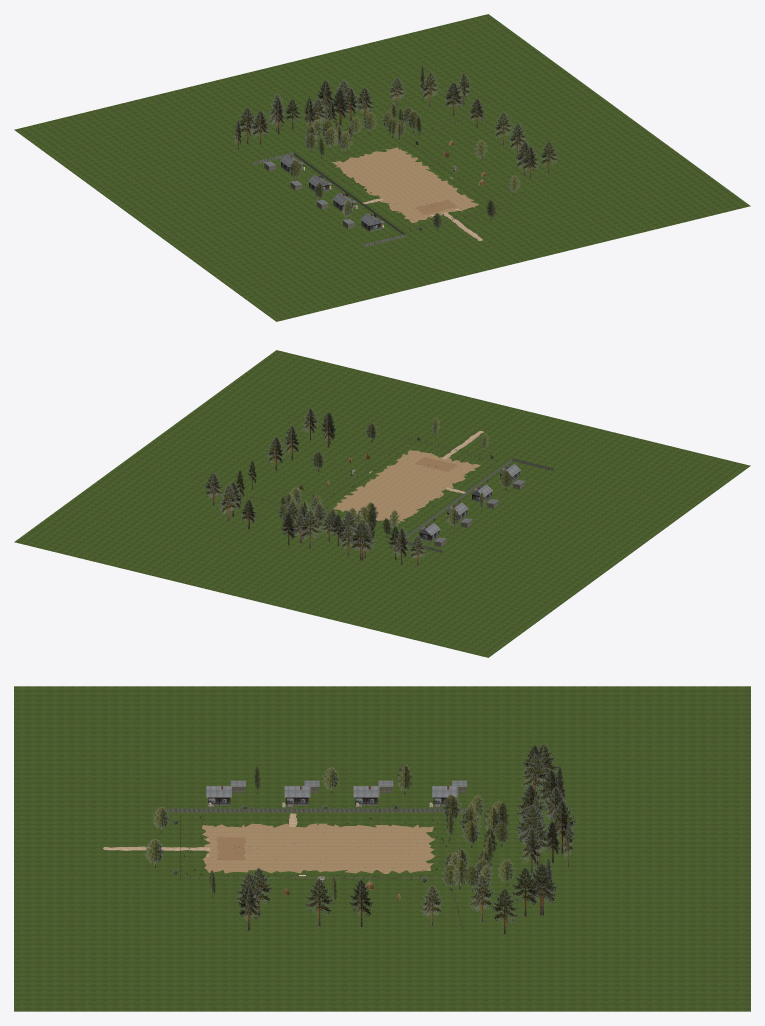
File: village.gltf
3 views of the same model, one above another, from view 1: azimuth 30°, elevation 25°; view 2: azimuth 150°, elevation 25°; view 3: azimuth 270°, elevation 25° (orthographic). The views are drawn at different scales.
Parts seen in each view (by area): view 1: ground, court; view 2: ground, court; view 3: ground, court, cutout-picket0, cutout-pine15-0, cutout-pineR7-0, clay-dom, cutout-pineR0-1, cutout-pine13-0, cutout-pine16-1, cutout-pine17-1, cutout-pine13-1, cutout-pineR6-0 (+1 smaller).
Boxes of the visible parts, x1,y1,x2,y2 form: ground: (14,14,750,321); court: (331,147,478,222); ground: (14,350,750,657); court: (333,450,480,523); ground: (14,686,750,1011); court: (202,823,434,873); cutout-picket0: (168,808,481,812); cutout-pine15-0: (511,867,538,916); cutout-pineR7-0: (304,878,333,926); clay-dom: (217,837,245,860); cutout-pineR0-1: (492,888,519,934); cutout-pine13-0: (527,863,557,915); cutout-pine16-1: (521,755,547,795); cutout-pine17-1: (546,800,576,853); cutout-pine13-1: (529,863,556,915); cutout-pineR6-0: (349,879,372,926).
Bounding box in the file's own units: 240 × 18.87 × 230.
19 materials, 18 textured.
